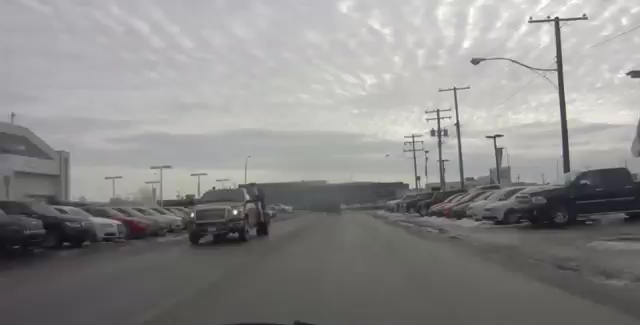car: (515, 166, 640, 228), (21, 201, 127, 246), (186, 187, 267, 244), (1, 200, 95, 249), (466, 184, 583, 223), (481, 184, 595, 224), (53, 204, 152, 242), (78, 204, 172, 237), (452, 188, 539, 221), (107, 202, 185, 235), (1, 207, 46, 261), (416, 191, 472, 219), (444, 191, 503, 217), (429, 192, 491, 215), (399, 194, 440, 212), (265, 202, 292, 212)
